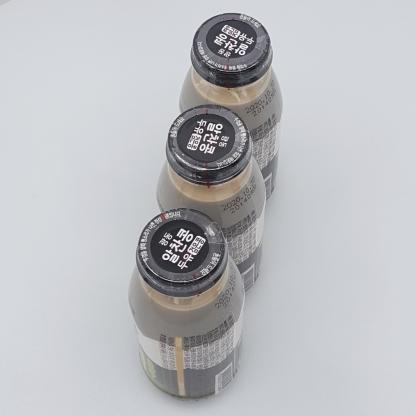--------200ML: (128, 208, 245, 402), (156, 104, 266, 300), (178, 13, 283, 207)
